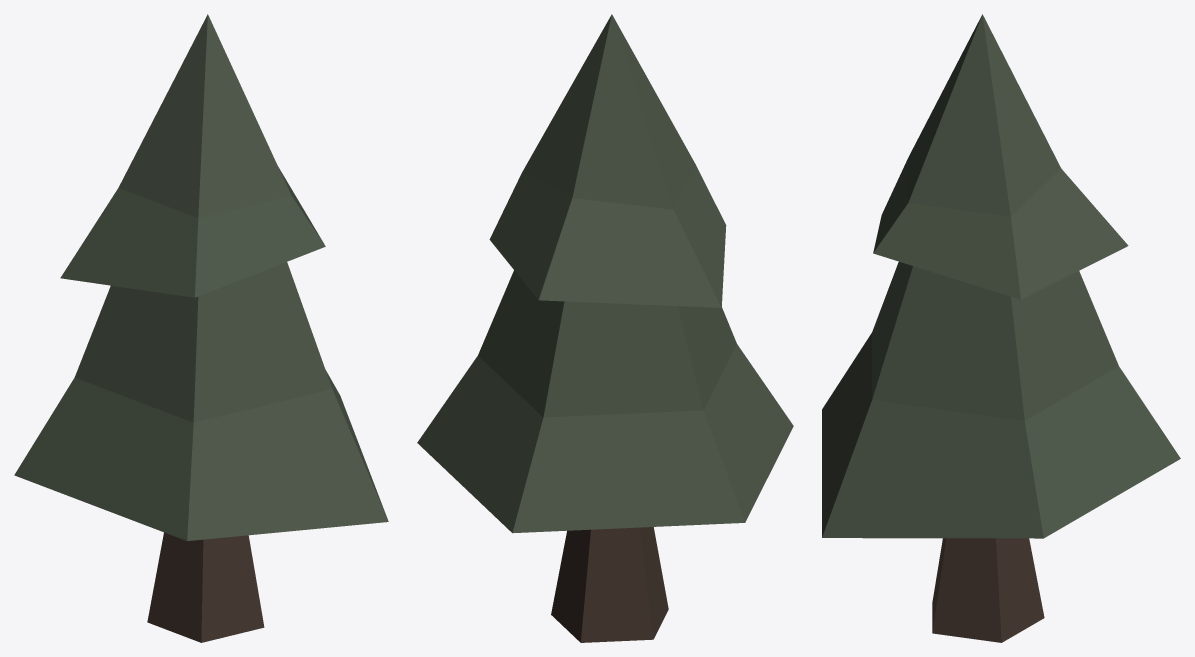
File: Darkgreen_conetree3.fbx
3 views of the same model, side by side, from view 1: azimuth 30°, elevation 25°; view 2: azimuth 150°, elevation 25°; view 3: azimuth 270°, elevation 25° (orthographic).
Visible parts, largest first — view 1: Darkgreen_conetree3; view 2: Darkgreen_conetree3; view 3: Darkgreen_conetree3.
Boxes of the visible parts, x1,y1,x2,y2 form: Darkgreen_conetree3: (14, 14, 388, 642); Darkgreen_conetree3: (417, 14, 793, 642); Darkgreen_conetree3: (822, 14, 1180, 642).
Bounding box in the file's own units: 412 × 727 × 392.
